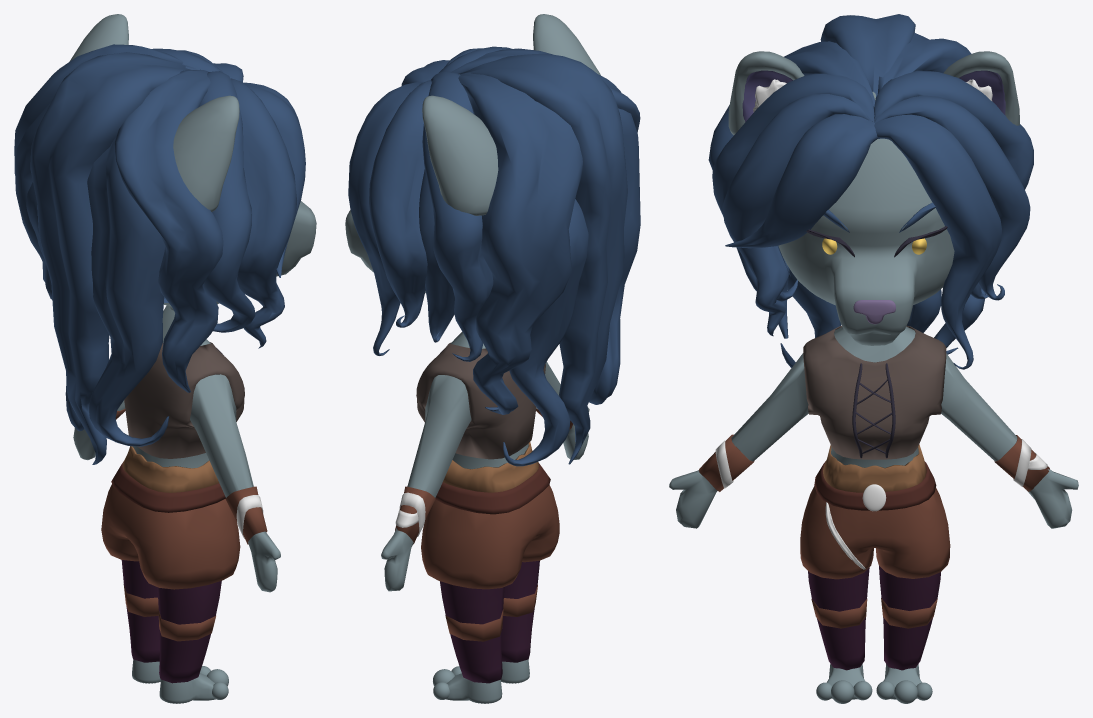
File: Sigrid_MenosVertices.fbx
The picture shows the model from 3 angles, left to right: view 1: azimuth 30°, elevation 25°; view 2: azimuth 150°, elevation 25°; view 3: azimuth 270°, elevation 25°; orthographic projection.
Visible parts, largest first — view 1: NurbsPath.006, NurbsPath.008, NurbsPath.011, Pantalones, NurbsPath.003, Cuerpo, Camiseta, Medias, NurbsPath.005, Oreja.001, NurbsPath.007, NurbsPath.001 (+11 smaller); view 2: NurbsPath.007, NurbsPath.006, Pantalones, NurbsPath.002, Cuerpo, NurbsPath.004, Oreja, Medias, NurbsPath.010, Camiseta, NurbsPath, NurbsPath.011 (+13 smaller); view 3: Cabeza.001, Camiseta, Cuerpo, NurbsPath, Pantalones, NurbsPath.003, NurbsPath.001, Medias, NurbsPath.002, NurbsPath.004, NurbsPath.005, NurbsPath.006 (+14 smaller).
Part boxes in pixels (x1,y1,x2,y2): NurbsPath.006: (30, 52, 192, 464); NurbsPath.008: (114, 69, 223, 392); NurbsPath.011: (87, 137, 169, 446); Pantalones: (101, 484, 240, 589); NurbsPath.003: (231, 78, 296, 348); Cuerpo: (73, 305, 280, 592); Camiseta: (124, 342, 244, 458); Medias: (121, 560, 221, 683); NurbsPath.005: (198, 71, 255, 332); Oreja.001: (173, 95, 239, 211); NurbsPath.007: (14, 44, 197, 299); NurbsPath.001: (243, 82, 305, 277); NurbsPath.007: (458, 72, 582, 414); NurbsPath.006: (461, 53, 627, 464); Pantalones: (421, 485, 559, 589); NurbsPath.002: (369, 80, 431, 327); Cuerpo: (381, 332, 589, 591); NurbsPath.004: (422, 72, 493, 361); Oreja: (422, 95, 498, 215); Medias: (440, 560, 539, 683); NurbsPath.010: (503, 199, 588, 466); Camiseta: (416, 342, 545, 459); NurbsPath: (348, 82, 422, 355); NurbsPath.011: (589, 108, 640, 404); Cabeza.001: (778, 92, 954, 345); Camiseta: (803, 326, 946, 459); Cuerpo: (669, 326, 1078, 528); NurbsPath: (874, 114, 1001, 369); Pantalones: (800, 486, 950, 579); NurbsPath.003: (722, 94, 870, 336); NurbsPath.001: (725, 114, 877, 248); Medias: (808, 566, 940, 670); NurbsPath.002: (874, 95, 1030, 300); NurbsPath.004: (874, 70, 1033, 294); NurbsPath.005: (712, 73, 874, 301); NurbsPath.006: (820, 14, 915, 96).
Size of the model in its own units: 231 by 528 by 306.
